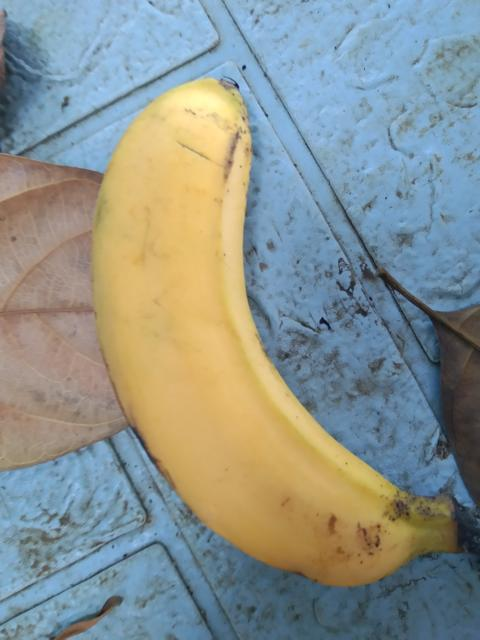freshripe: (82, 68, 479, 585)
